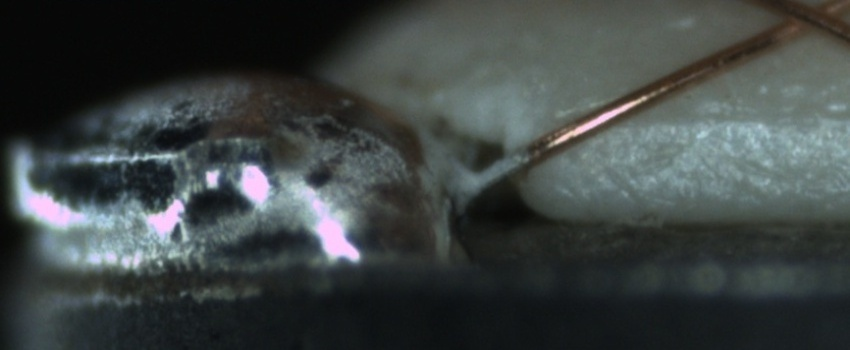CL: (763, 0, 845, 43)
DL: (626, 80, 845, 150)
TS: (469, 142, 544, 191)
